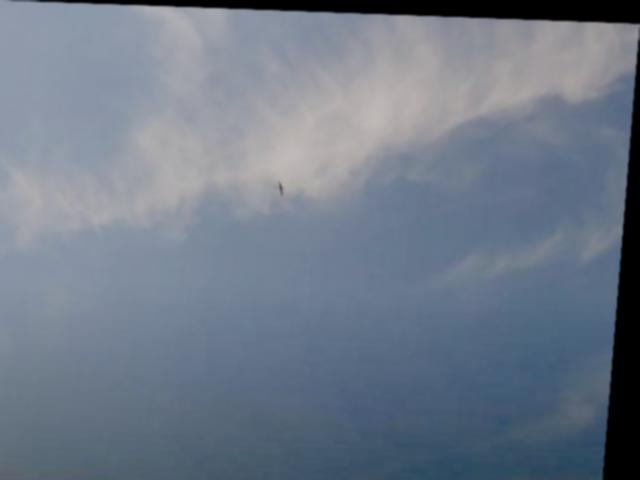iha: (273, 178, 290, 197)
